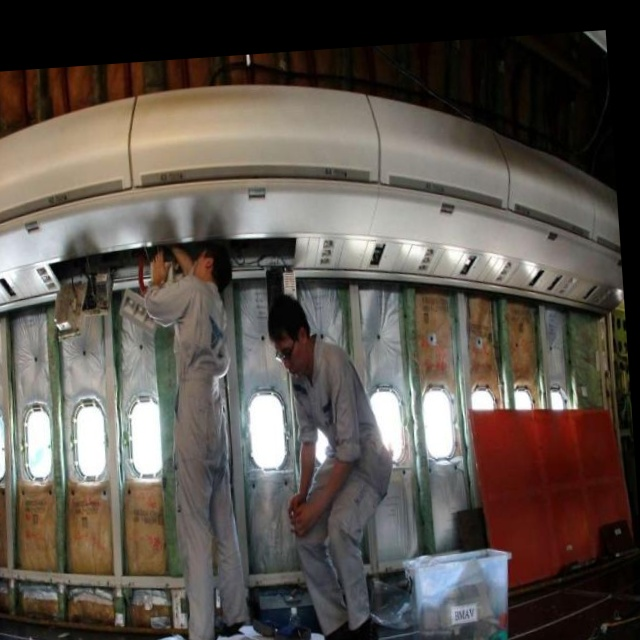Sin_Casco_Mascarrilla: (267, 289, 312, 374), (195, 236, 234, 285)
